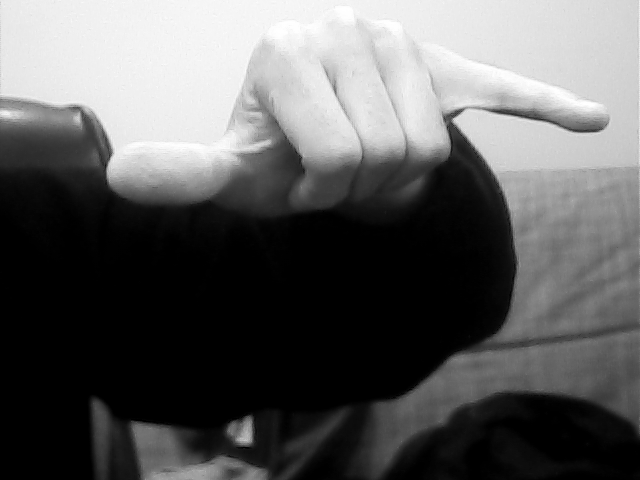aloha: (102, 3, 614, 233)
